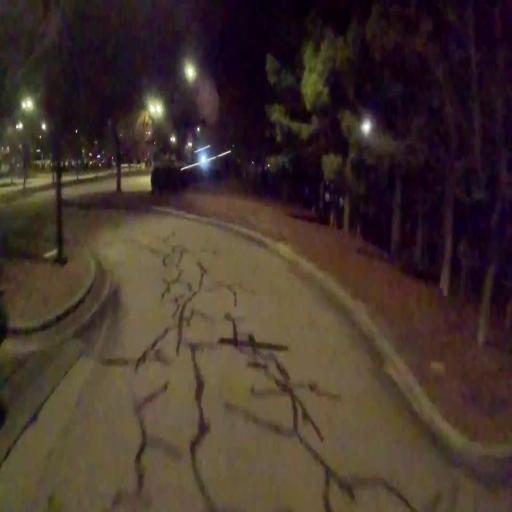uav: (180, 139, 234, 176)
